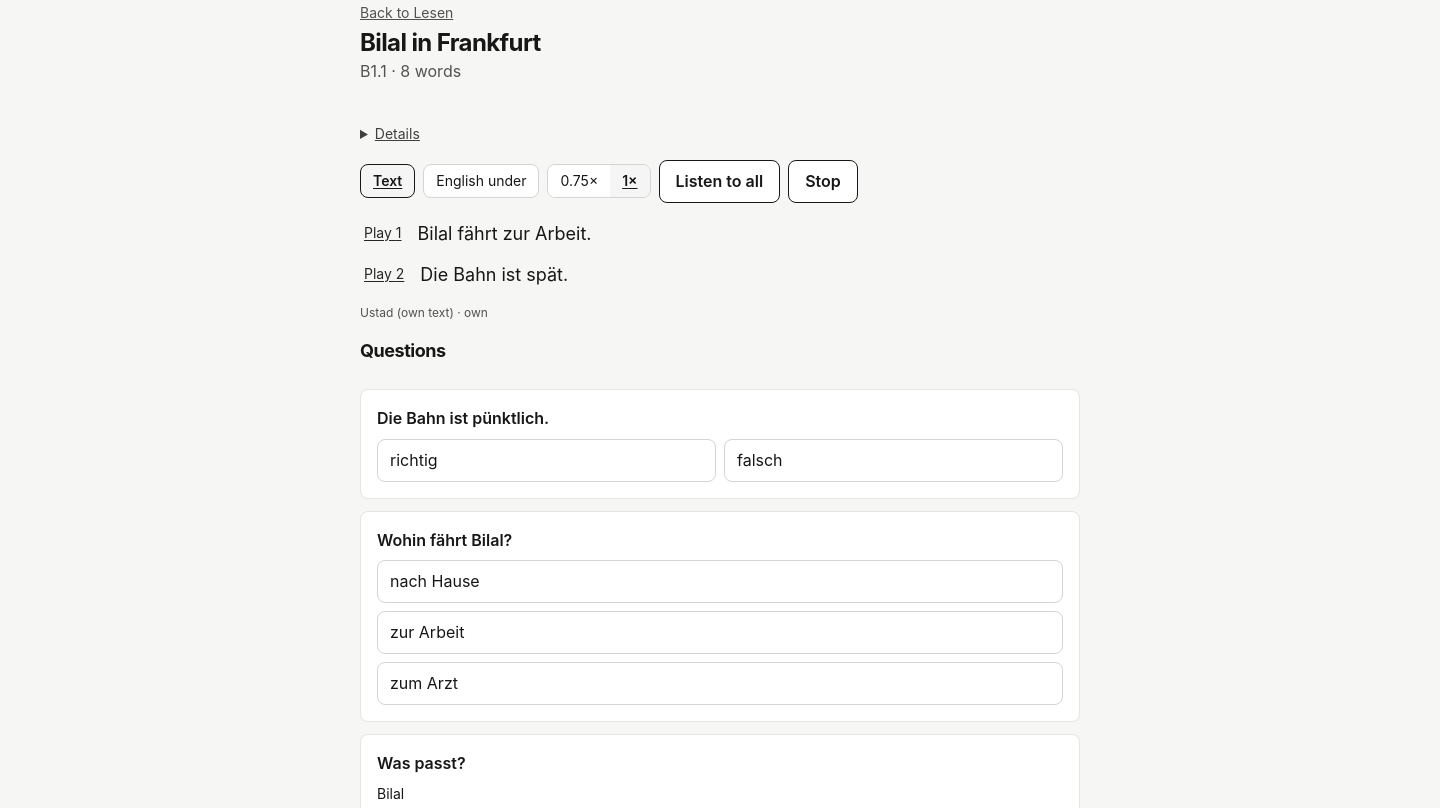
it: Reader › click a word opens the gloss panel, Escape and Close shut it
expect the heading "Bilal in Frankfurt" is shown: met, box [360,27,541,59]
Click the button "Bahn" at (475,274), box [453,260,496,289]
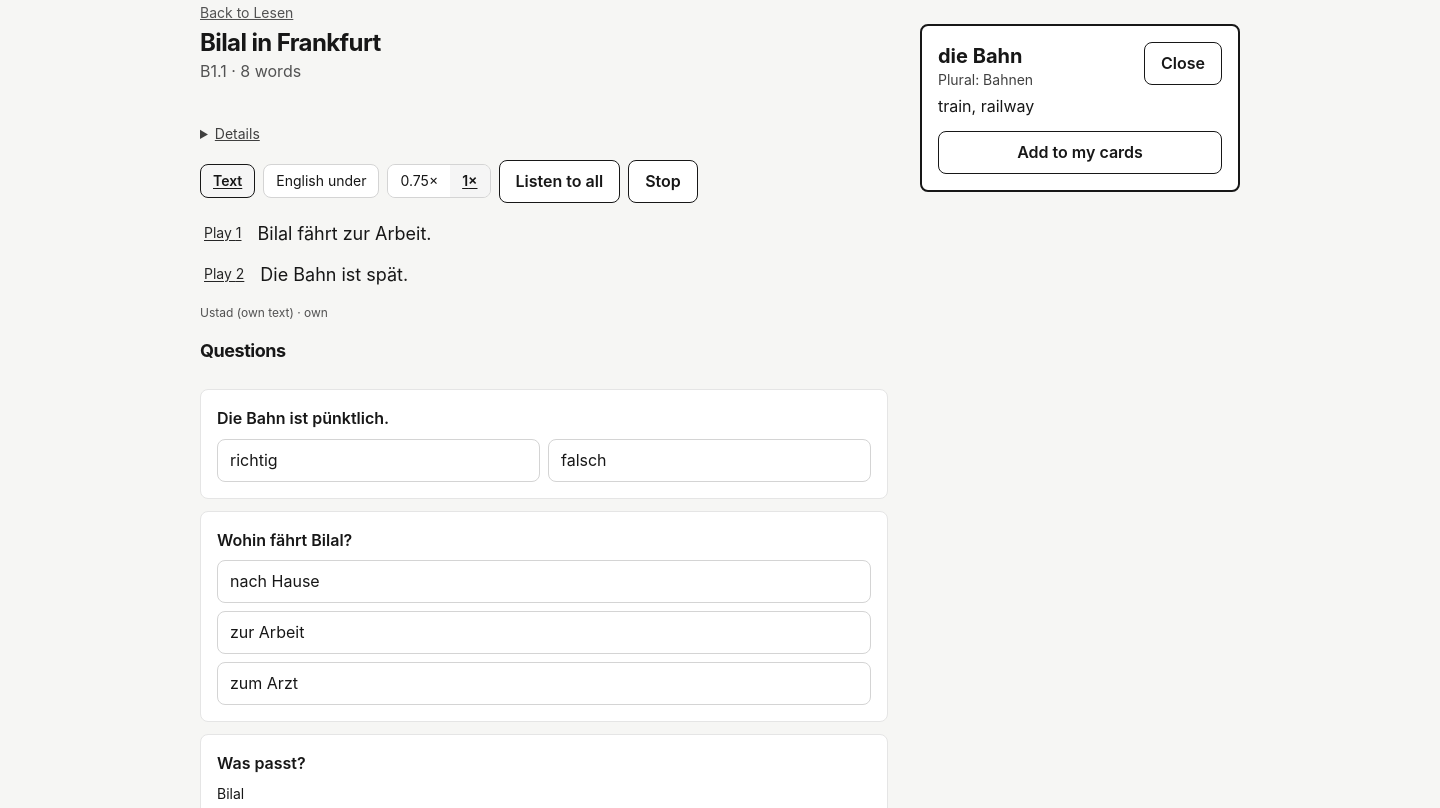
expect the text "die Bahn" is shown: met, box [938,44,1022,68]
expect the text "train, railway" is shown: met, box [938,96,1034,116]
Click the button "Add to my cards" at (1080,152), box [938,131,1222,174]
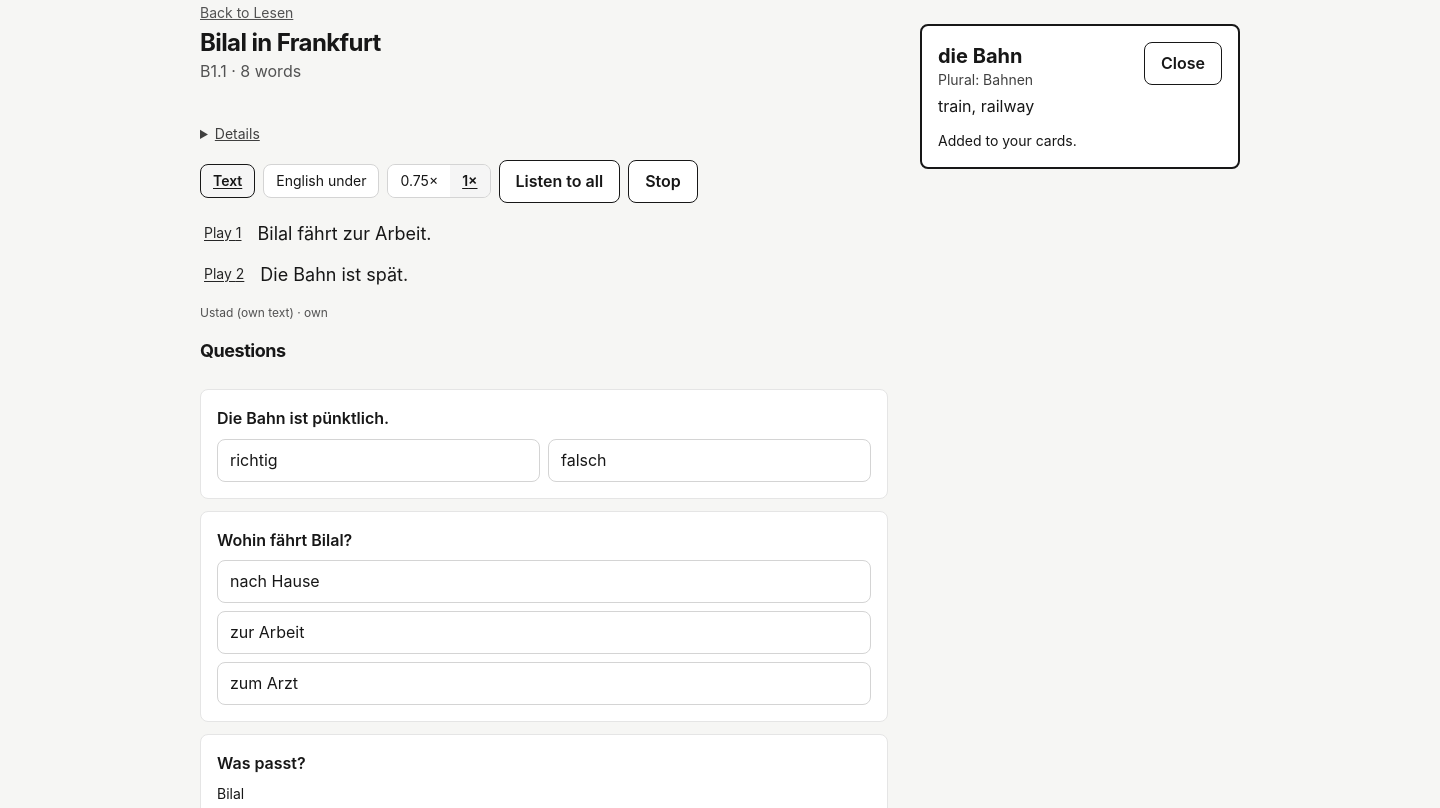
expect the text "Added to your cards." is shown: met, box [938,132,1077,149]
Press Escape
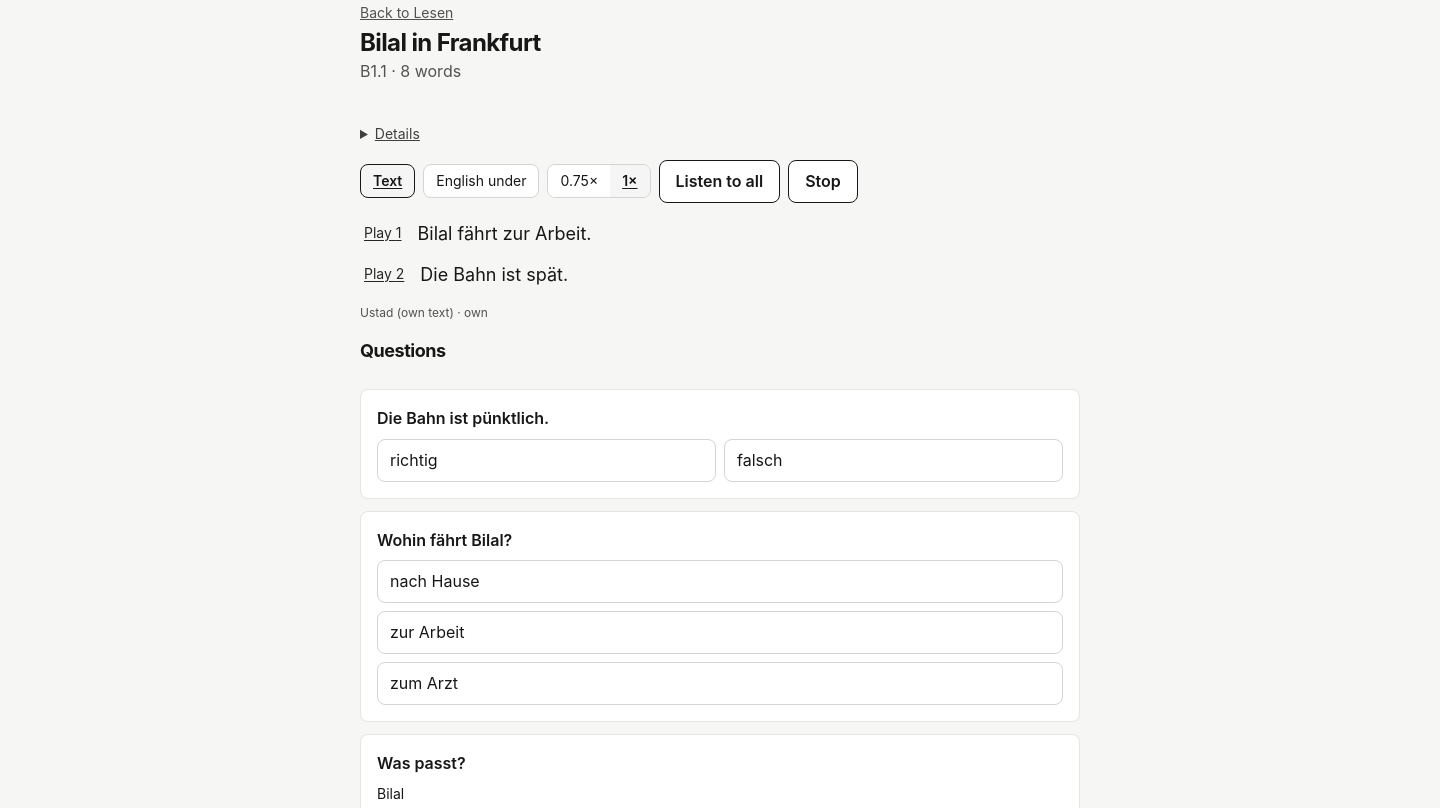
expect the dialog is gone: met
Click the button "Bahn" at (475,274), box [453,260,496,289]
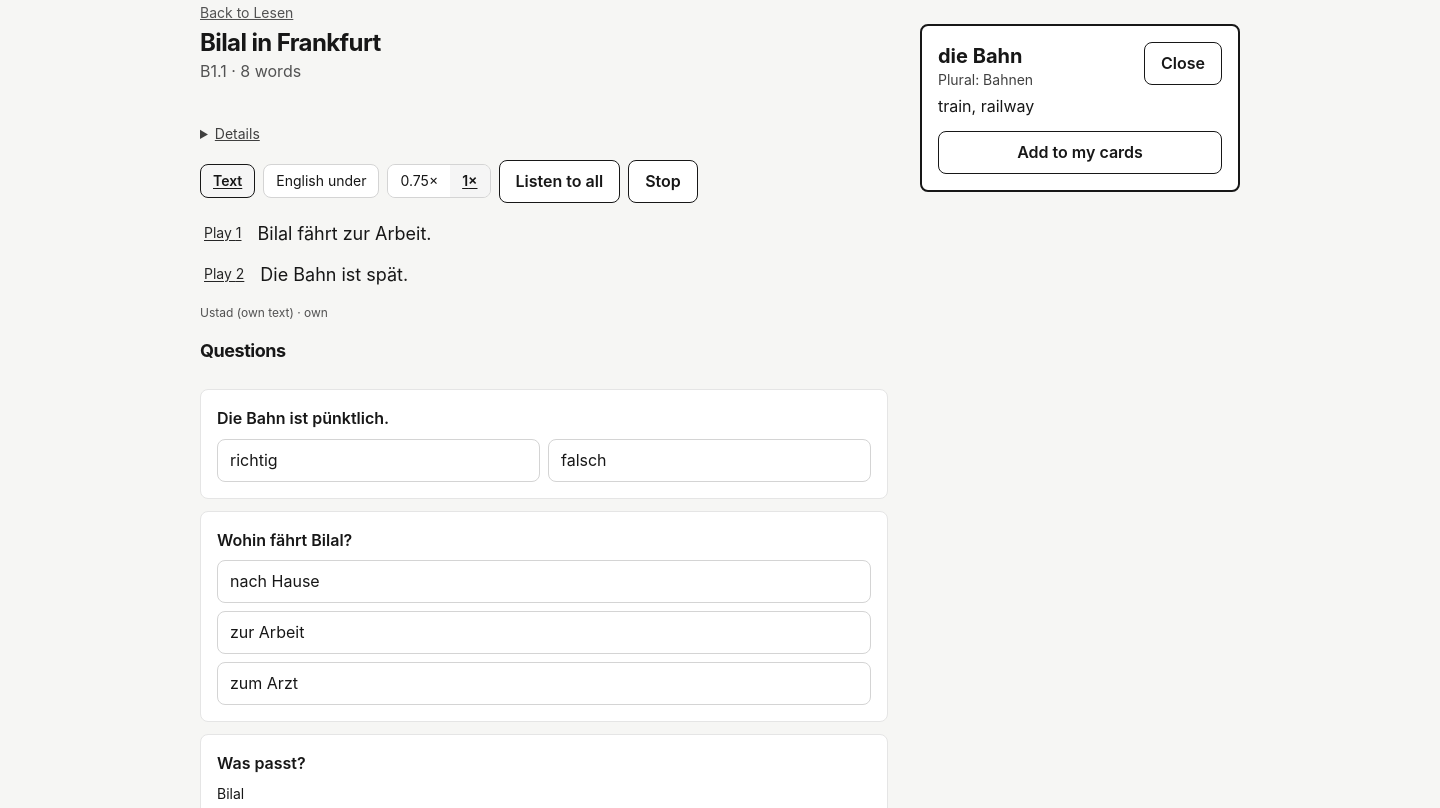
Click the button "Close" at (1183,63), box [1144,42,1222,85]
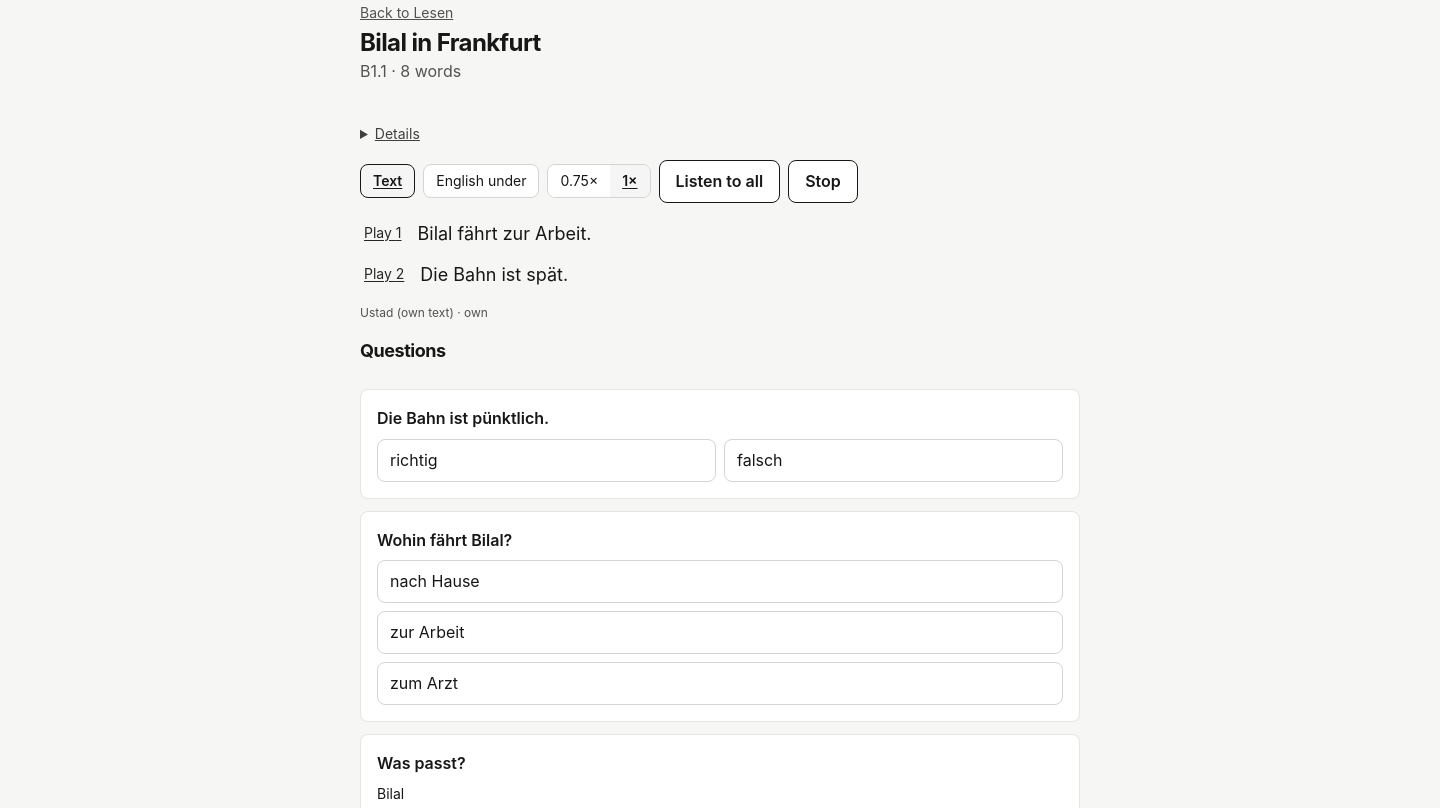
expect the dialog is gone: met
